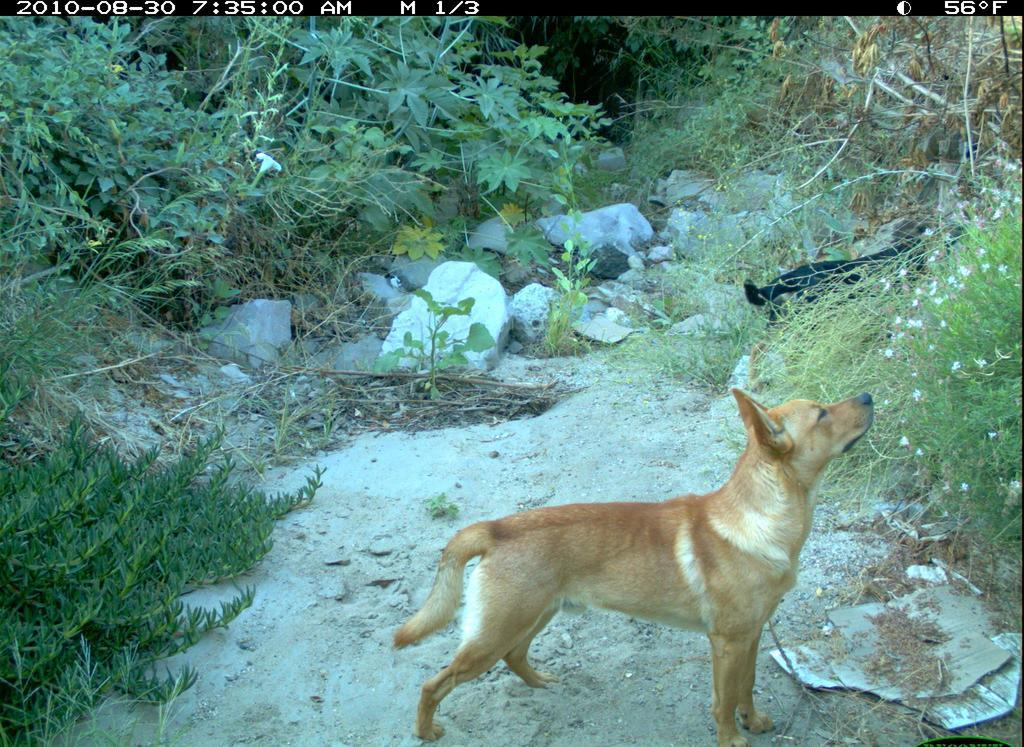dog: (388, 387, 884, 747)
